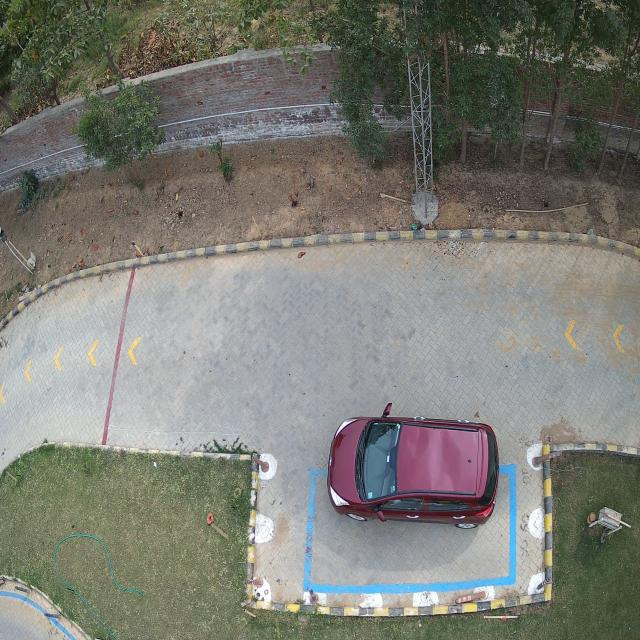car: (326, 408, 500, 528)
